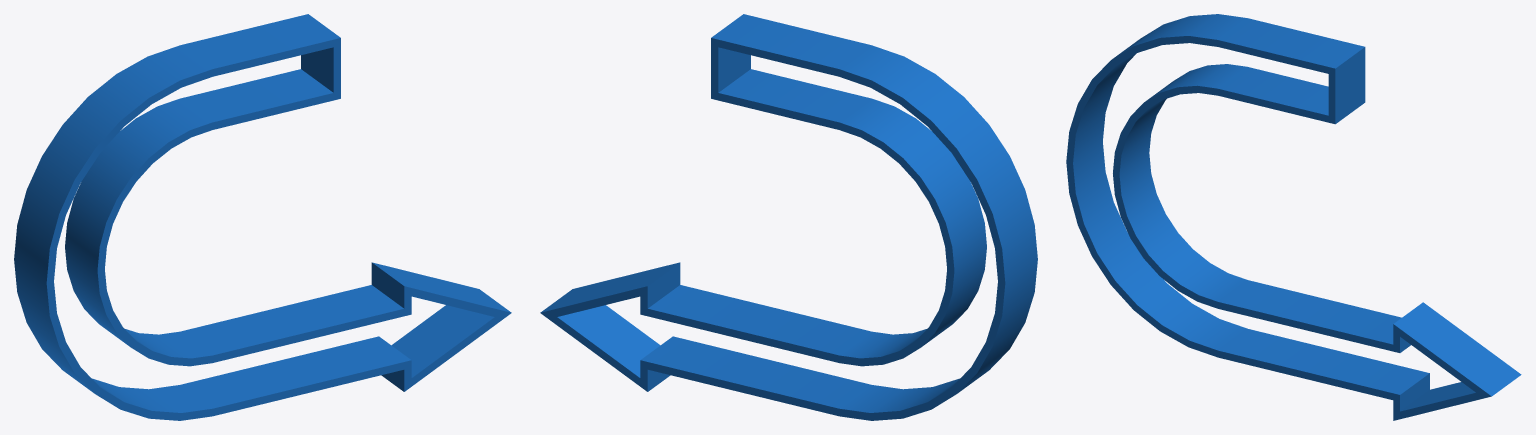
The model's file is Arrow_44.obj.
3 renders of one model, left to right at view 1: azimuth 30°, elevation 25°; view 2: azimuth 150°, elevation 25°; view 3: azimuth 330°, elevation 25°, orthographic. The views are drawn at different scales.
Parts seen in each view (by area): view 1: Arrow_44; view 2: Arrow_44; view 3: Arrow_44.
Part boxes in pixels (box(x1,y1,x2,y2)): Arrow_44: box(14, 14, 511, 420); Arrow_44: box(540, 14, 1037, 420); Arrow_44: box(1066, 14, 1521, 420).
Bounding box in the file's own units: 4.32 × 3.28 × 0.5244.
